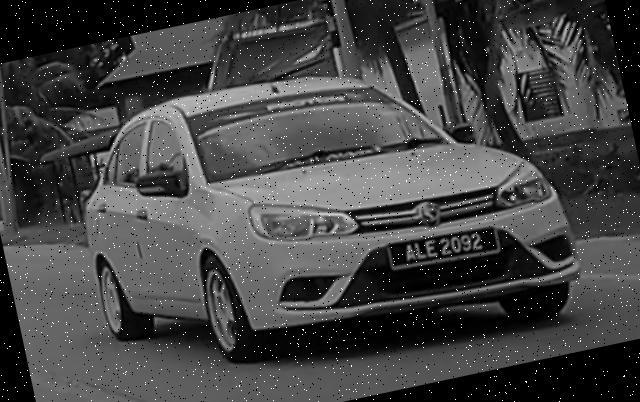License_Plate: (383, 221, 502, 277)
car: (59, 22, 590, 402)
